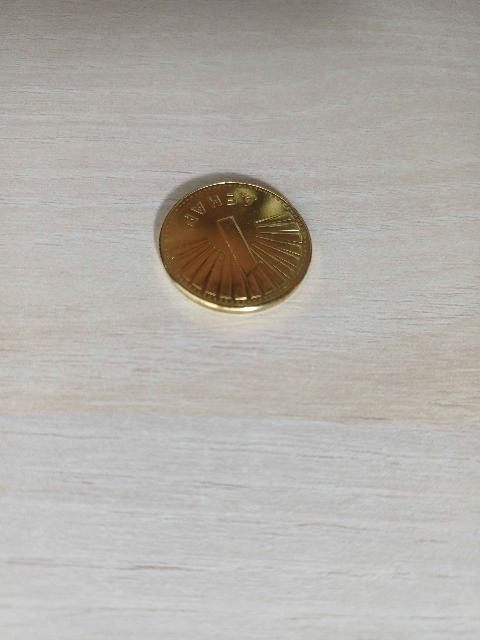coin: (160, 182, 311, 312)
